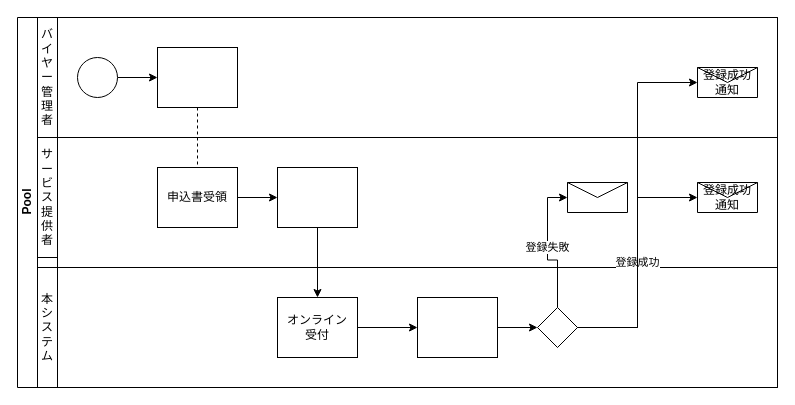
The diagram is 795 pixels wide and 405 high, and some of its shapes have lost their labels. The centre of each missing label's shape, as x and y in pixels:
CSV アップロード: the point at 317,197
ディレード 登録処理: the point at 457,327
申込書提出: the point at 197,77
登録失敗通知: the point at 597,197
